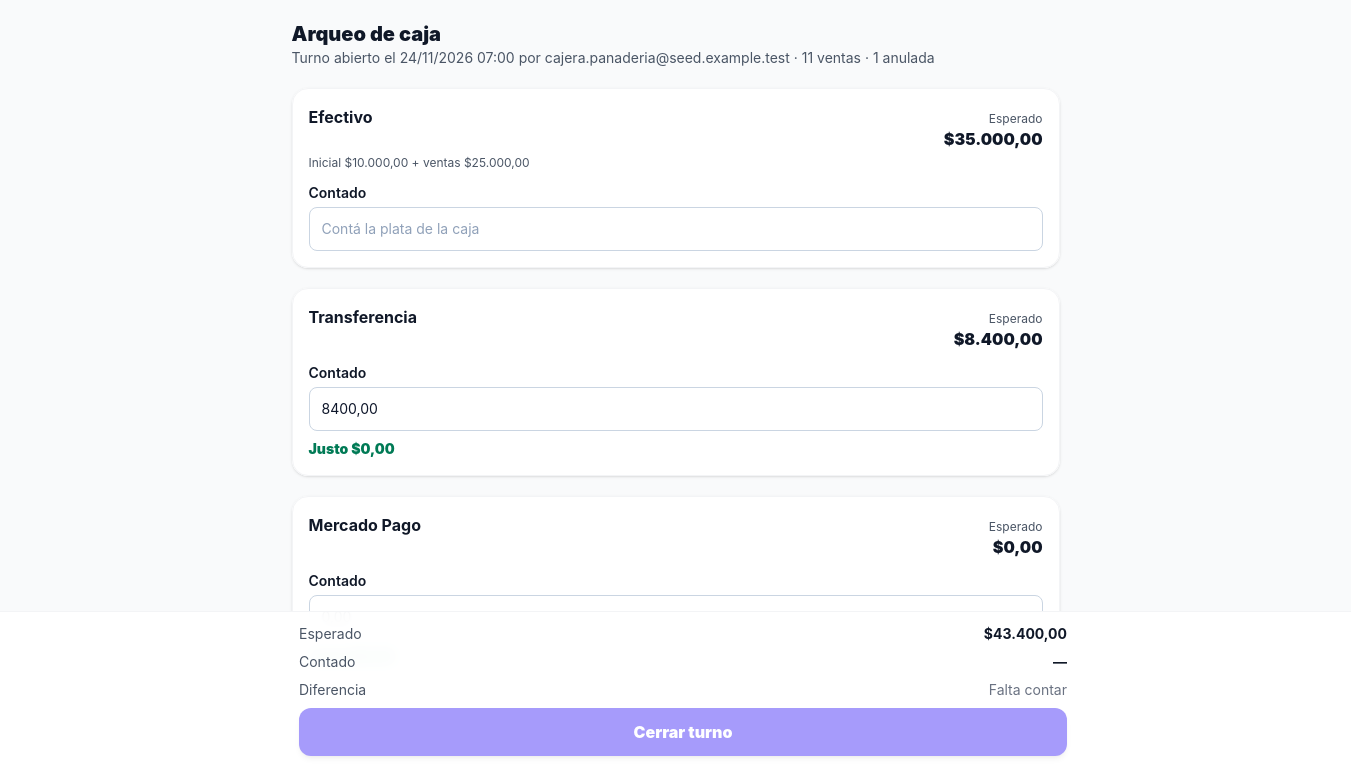
it: Cierre de caja (/ventas/turnos/:id/cerrar) › si entró una venta mientras se contaba, actualiza lo esperado y pide revisar antes de cerrar
The width and height of the screenshot is (1366, 768).
Later steps or results of the test are not shown.
In the field named "Contado en efectivo": coordinates (676, 229) [308,207,1042,251], type "35000"
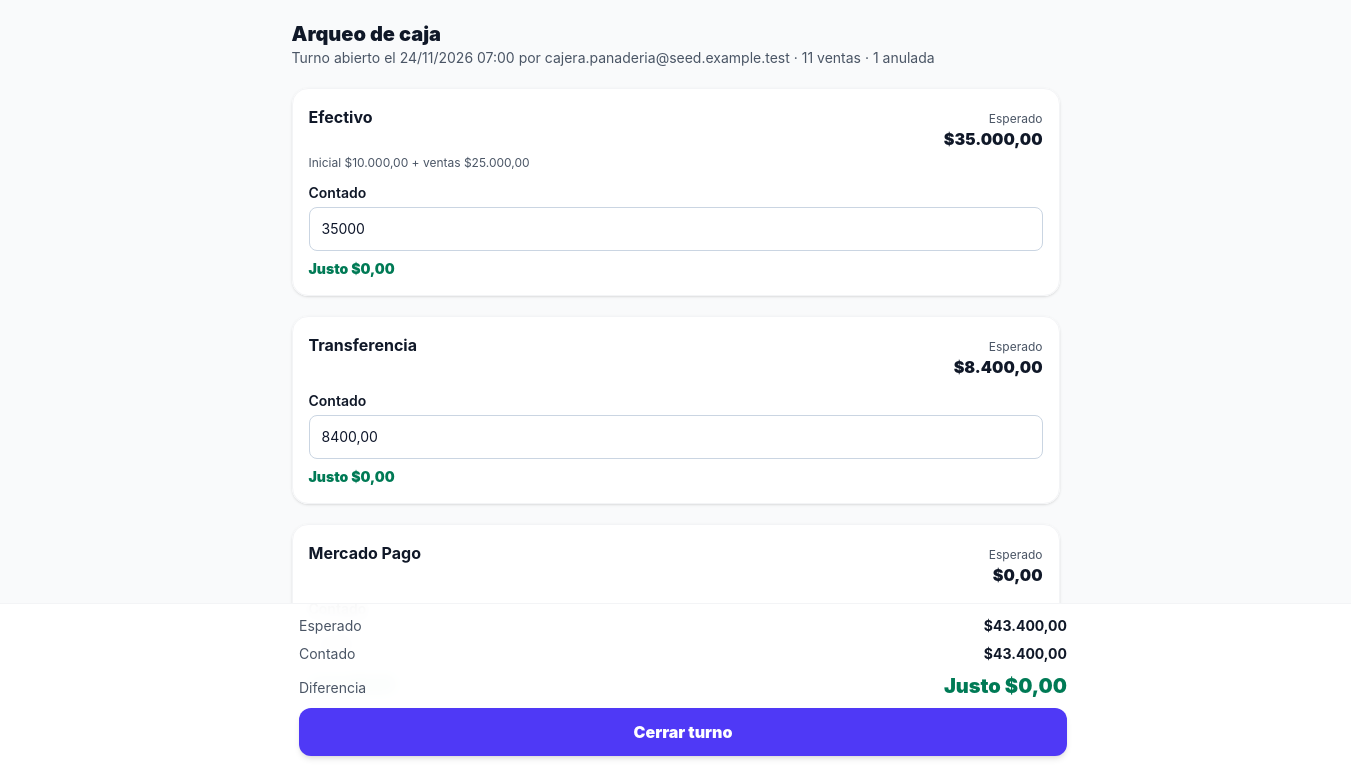
Expected: the text with test id "total-difference" reads "Justo $0,00", [944,672,1067,700]
Click the button "Cerrar turno": coordinates (683, 732) [299,708,1067,756]
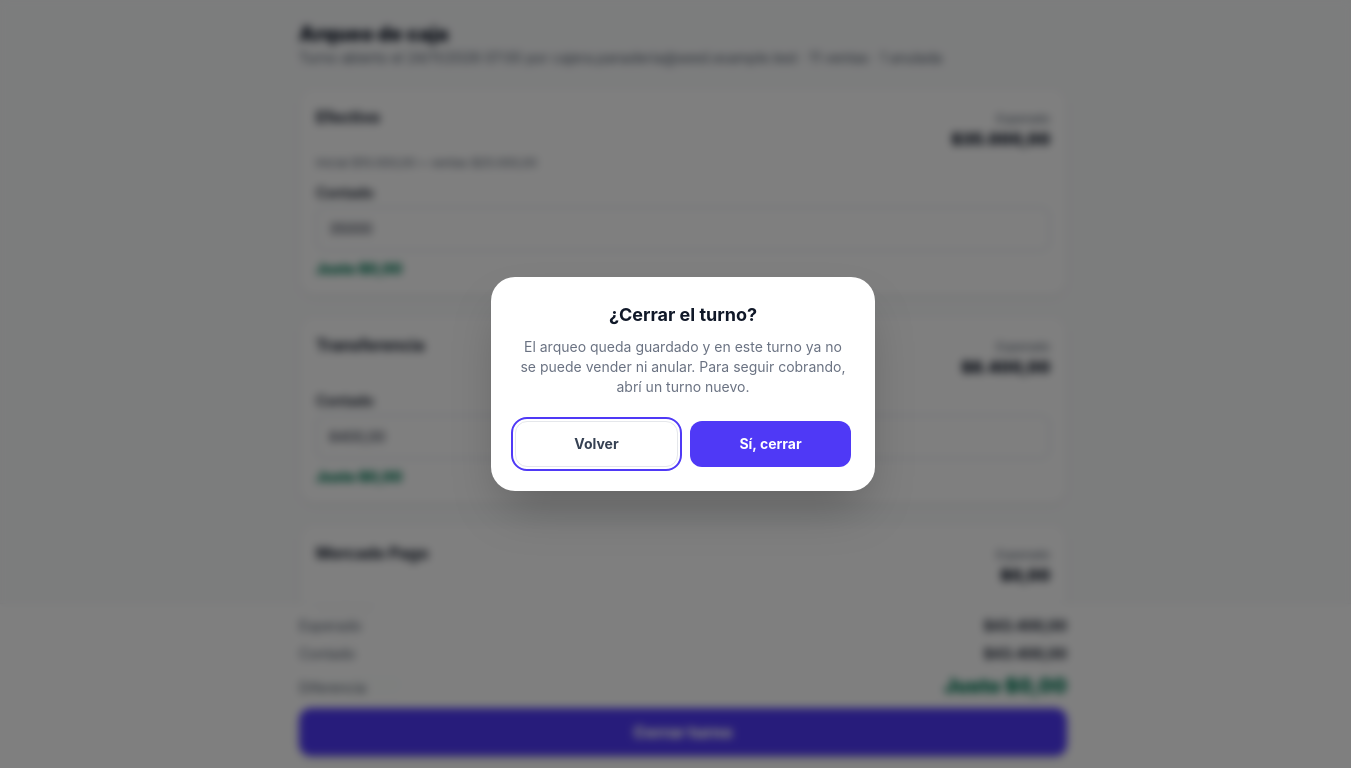
Click the button "Sí, cerrar": coordinates (770, 444) [690,421,851,467]
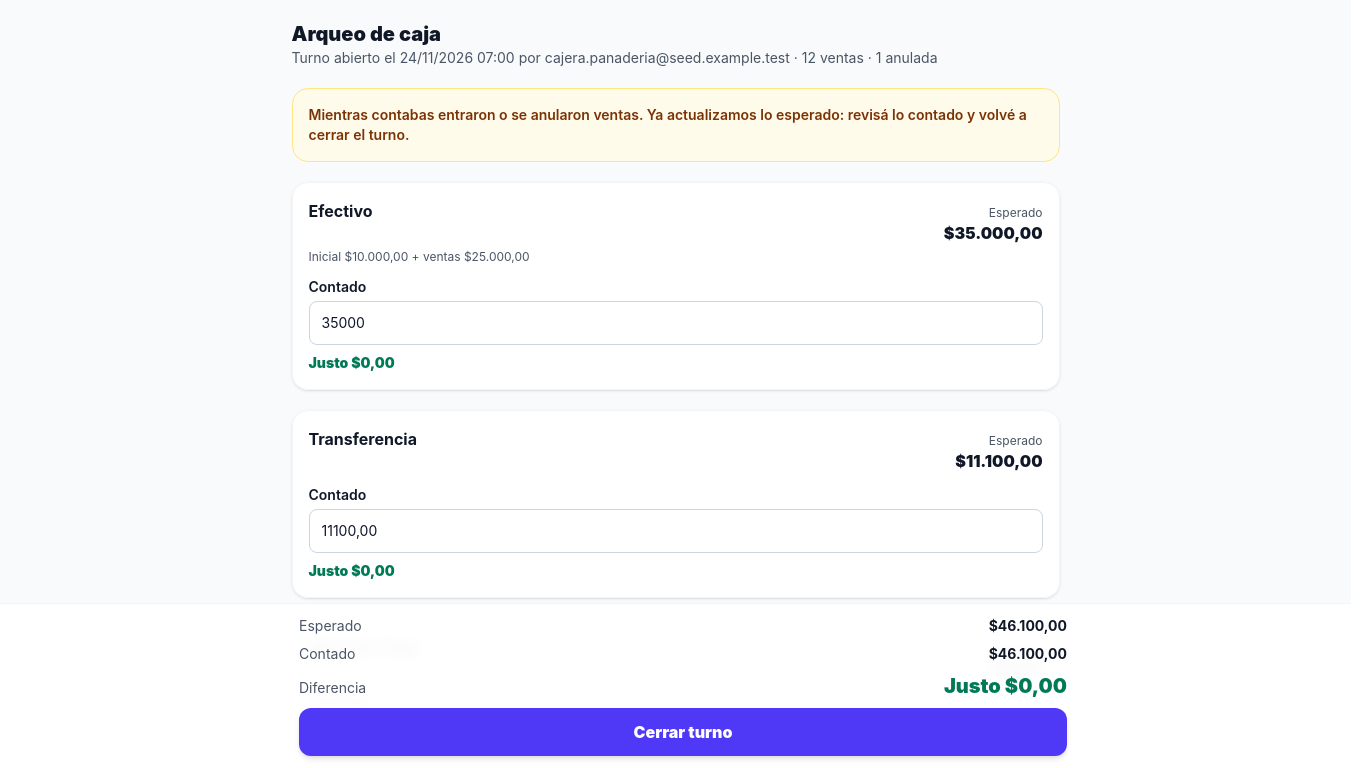
Expected: the message shows "Mientras contabas entraron o se anularon ventas", [308,106,1027,143]
Expected: the dialog is gone
Expected: the text "$11.100,00" is shown, [955,451,1042,471]
